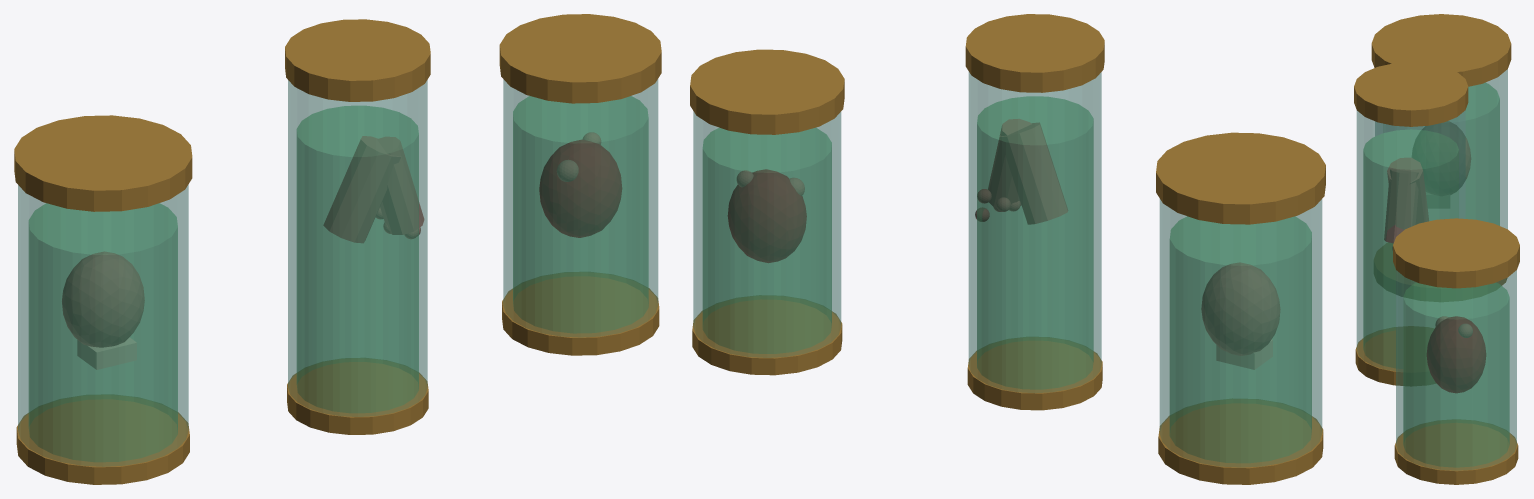
The model's file is JarSet_BodyParts.obj.
The picture shows the model from 3 angles, left to right: view 1: azimuth 30°, elevation 25°; view 2: azimuth 150°, elevation 25°; view 3: azimuth 270°, elevation 25°; orthographic projection. The views are drawn at different scales.
Parts seen in each view (by area): view 1: JarGlass_1, JarGlass_0, JarFluid_0, JarFluid_1, JarGlass_2, JarFluid_2, JarLid_0, JarBase_0, JarLid_2, JarBase_2, JarLid_1, JarBase_1 (+5 smaller); view 2: JarGlass_1, JarGlass_0, JarFluid_0, JarGlass_2, JarFluid_1, JarFluid_2, JarLid_0, JarBase_0, JarLid_2, JarBase_2, JarLid_1, JarBase_1 (+5 smaller); view 3: JarGlass_2, JarFluid_2, JarGlass_1, JarFluid_1, JarLid_2, JarLid_0, JarBase_2, JarLid_1, JarGlass_0, JarFluid_0, JarBase_1, Heart (+5 smaller).
Part boxes in pixels (bbox=[...]): JarGlass_1: bbox=[288, 80, 427, 416]; JarGlass_0: bbox=[18, 185, 188, 466]; JarFluid_0: bbox=[28, 203, 177, 461]; JarFluid_1: bbox=[296, 105, 418, 412]; JarGlass_2: bbox=[503, 79, 658, 337]; JarFluid_2: bbox=[513, 96, 648, 333]; JarLid_0: bbox=[14, 115, 192, 211]; JarBase_0: bbox=[16, 395, 189, 484]; JarLid_2: bbox=[499, 14, 661, 103]; JarBase_2: bbox=[502, 272, 659, 355]; JarLid_1: bbox=[285, 19, 430, 101]; JarBase_1: bbox=[287, 358, 428, 434]; JarGlass_1: bbox=[968, 72, 1101, 392]; JarGlass_0: bbox=[1159, 199, 1322, 467]; JarFluid_0: bbox=[1169, 216, 1311, 462]; JarGlass_2: bbox=[693, 111, 841, 357]; JarFluid_1: bbox=[977, 96, 1093, 389]; JarFluid_2: bbox=[702, 127, 831, 353]; JarLid_0: bbox=[1156, 132, 1325, 224]; JarBase_0: bbox=[1158, 399, 1323, 484]; JarLid_2: bbox=[690, 49, 844, 134]; JarBase_2: bbox=[692, 295, 842, 375]; JarLid_1: bbox=[965, 14, 1104, 92]; JarBase_1: bbox=[967, 337, 1102, 410]; JarGlass_2: bbox=[1396, 270, 1516, 470]; JarFluid_2: bbox=[1403, 282, 1509, 467]; JarGlass_1: bbox=[1356, 110, 1465, 370]; JarFluid_1: bbox=[1363, 129, 1458, 367]; JarLid_2: bbox=[1393, 218, 1519, 288]; JarLid_0: bbox=[1371, 14, 1511, 86]; JarBase_2: bbox=[1394, 420, 1518, 484]; JarLid_1: bbox=[1354, 62, 1468, 126]; JarGlass_0: bbox=[1375, 69, 1507, 228]; JarFluid_0: bbox=[1465, 82, 1499, 225]; JarBase_1: bbox=[1355, 326, 1434, 385]; Heart: bbox=[1427, 316, 1485, 392].
Bounding box in the file's own units: 1.89 × 1.01 × 0.549.
